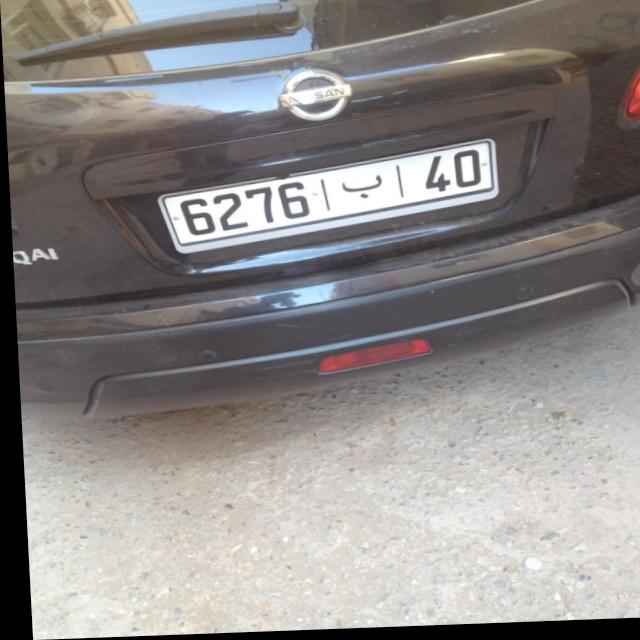License-Plate: (157, 144, 497, 255)
